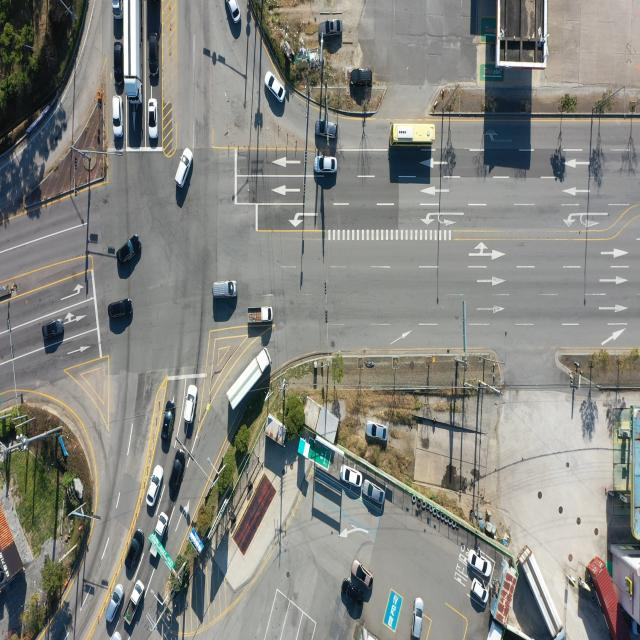car: (169, 452, 186, 503), (146, 464, 164, 508), (106, 584, 124, 623), (126, 533, 144, 572), (117, 236, 140, 266), (175, 148, 192, 188), (162, 403, 176, 451), (342, 577, 364, 605), (469, 552, 492, 578), (149, 34, 160, 87), (353, 560, 373, 588), (268, 72, 286, 103), (363, 481, 384, 507), (412, 598, 424, 640), (112, 96, 124, 138), (213, 279, 237, 300), (342, 465, 364, 487), (108, 300, 132, 320), (472, 580, 490, 606), (184, 386, 196, 424), (112, 44, 122, 89), (44, 319, 66, 339), (365, 422, 387, 441), (148, 98, 158, 139), (315, 157, 337, 175), (316, 120, 338, 138), (227, 0, 243, 24), (352, 68, 373, 85), (322, 19, 342, 36)
large_bus: (391, 125, 436, 146)
medium_truck: (523, 544, 566, 638), (226, 344, 270, 412), (126, 5, 145, 104)
small_truck: (149, 512, 168, 562), (125, 578, 146, 623), (247, 307, 273, 326), (111, 0, 122, 22)
